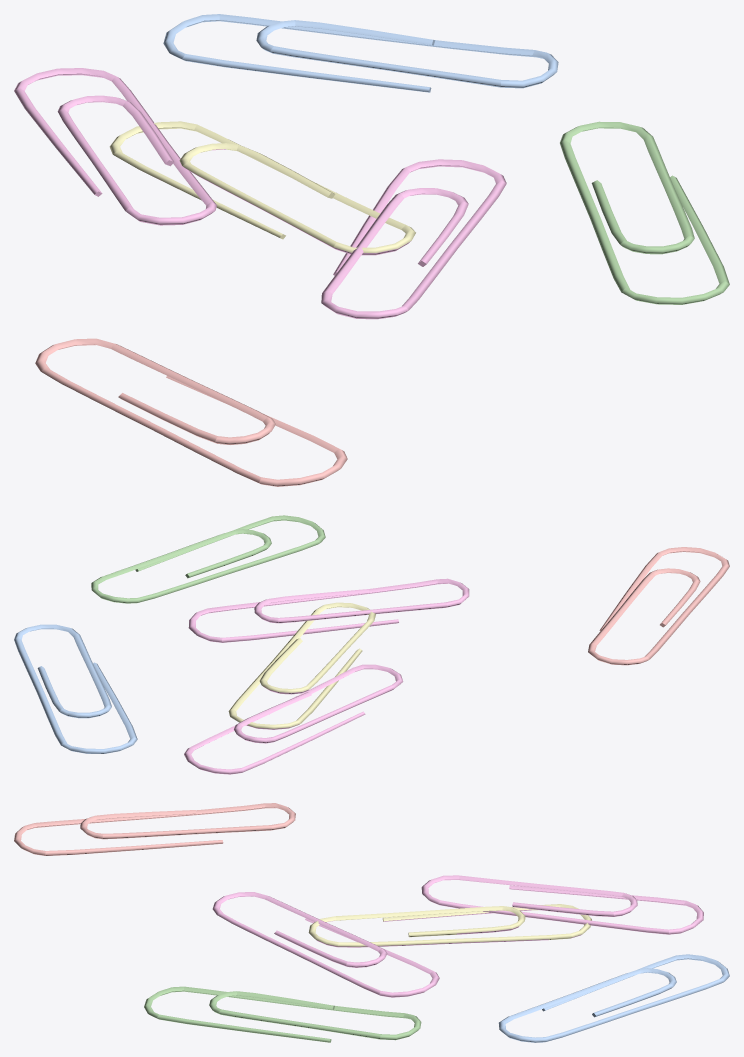
The model's file is 클립여러개_풍경.fbx.
3 renders of one model, top to bottom at view 1: azimuth 30°, elevation 25°; view 2: azimuth 150°, elevation 25°; view 3: azimuth 270°, elevation 25°, orthographic. The views are drawn at different scales.
Parts seen in each view (by area): view 1: clip_01.001, clip_01.003, clip_01.005, clip_01.004, clip_01.002, clip_01; view 2: clip_01.004, clip_01.003, clip_01.001, clip_01.005, clip_01.002, clip_01; view 3: clip_01.005, clip_01.002, clip_01.003, clip_01, clip_01.001, clip_01.004.
Boxes of the visible parts, <box> form: clip_01.001: <box>163,14,558,92</box>; clip_01.003: <box>560,121,729,304</box>; clip_01.005: <box>35,338,347,486</box>; clip_01.004: <box>321,159,506,319</box>; clip_01.002: <box>14,68,216,225</box>; clip_01: <box>109,121,415,255</box>; clip_01.004: <box>188,578,469,642</box>; clip_01.003: <box>91,515,325,603</box>; clip_01.001: <box>14,624,137,753</box>; clip_01.005: <box>588,547,729,665</box>; clip_01.002: <box>184,664,403,774</box>; clip_01: <box>228,602,375,729</box>; clip_01.005: <box>14,803,295,855</box>; clip_01.002: <box>421,875,703,934</box>; clip_01.003: <box>144,986,421,1042</box>; clip_01: <box>308,904,591,947</box>; clip_01.001: <box>498,954,729,1042</box>; clip_01.004: <box>212,892,439,997</box>.
Size of the model in its own units: 790 by 22.96 by 990.
